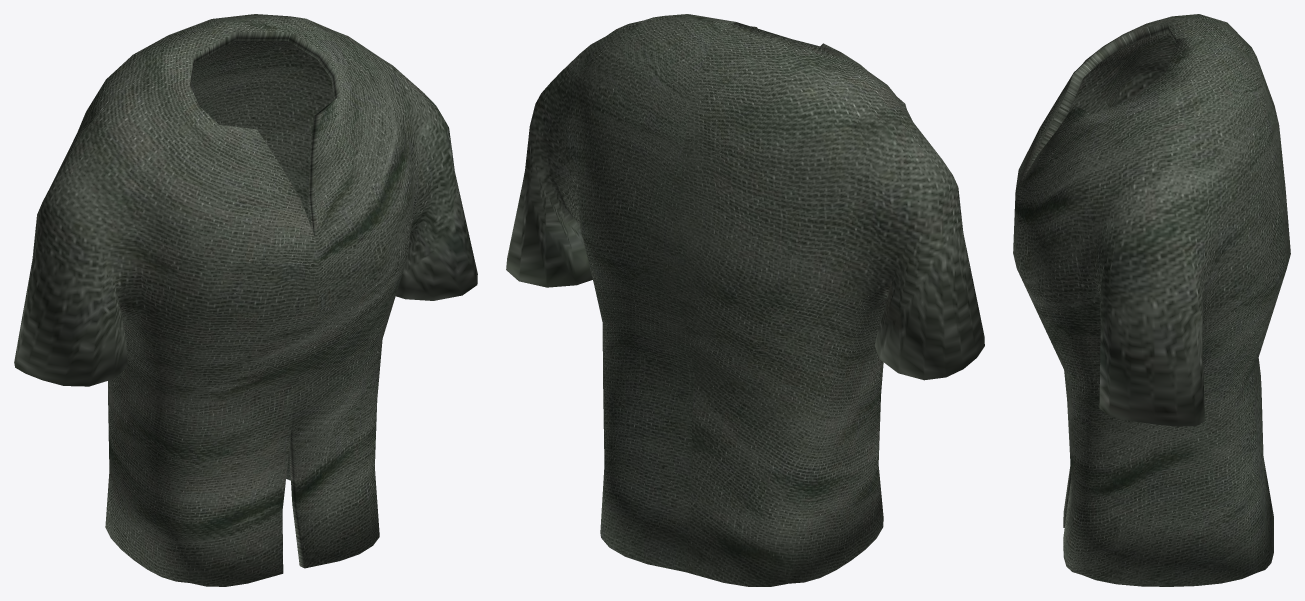
File: ClothArmor.fbx
3 views of the same model, side by side, from view 1: azimuth 30°, elevation 25°; view 2: azimuth 150°, elevation 25°; view 3: azimuth 270°, elevation 25° (orthographic). The views are drawn at different scales.
Visible parts, largest first — view 1: Cube; view 2: Cube; view 3: Cube.
Part boxes in pixels (x1,y1,x2,y2): Cube: (14,14,477,586); Cube: (506,14,984,586); Cube: (1013,14,1290,586).
Bounding box in the file's own units: 3.49 × 3.77 × 1.9.
